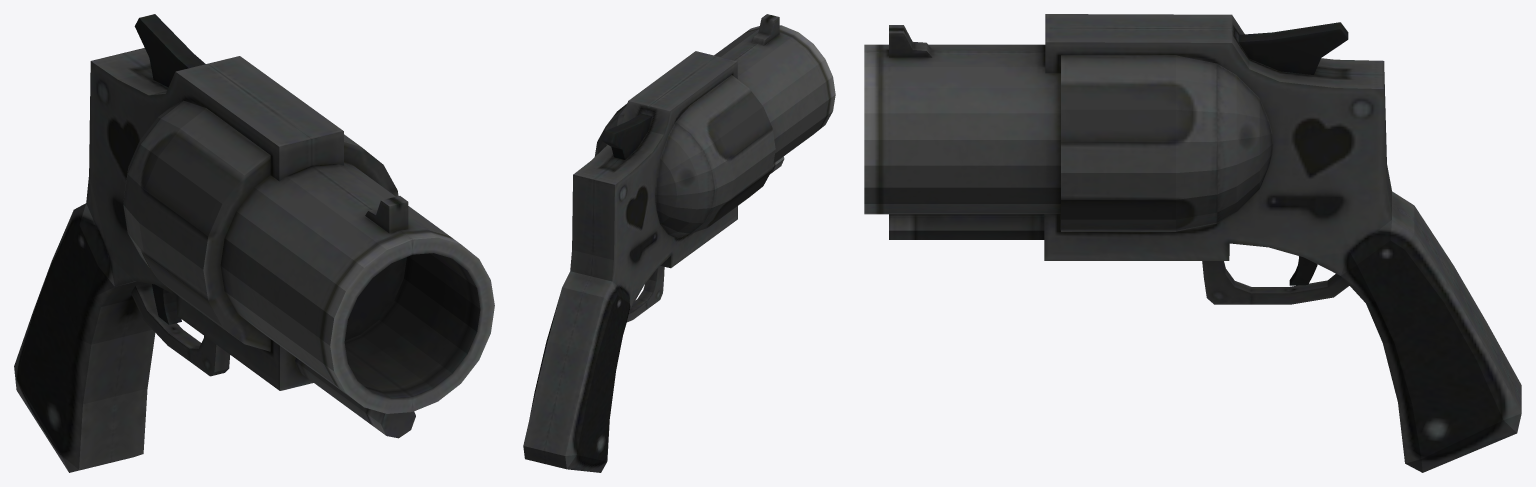
File: INJ-GAU_iOS_WEAPON_Harley_Quinn's_Pistol_Animated.obj
3 views of the same model, side by side, from view 1: azimuth 30°, elevation 25°; view 2: azimuth 150°, elevation 25°; view 3: azimuth 270°, elevation 25° (orthographic). The views are drawn at different scales.
Size of the model in its own units: 0.0995 by 0.2304 by 0.317.
Materials: 1 (1 with a texture image).
